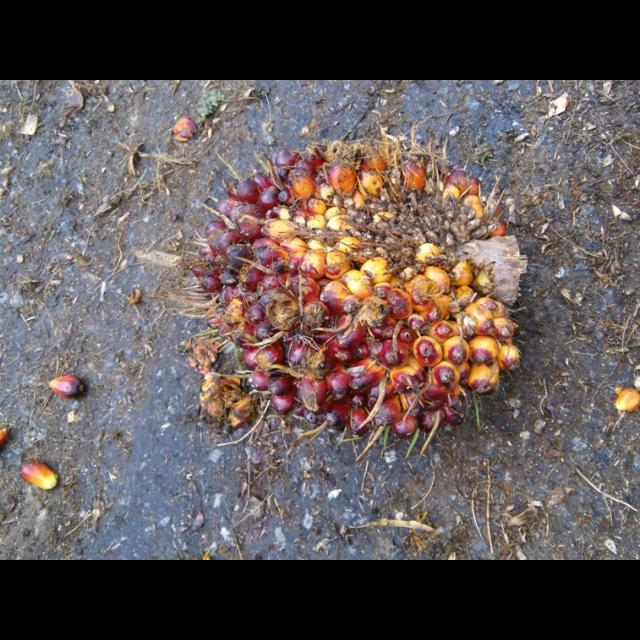Ripe: (197, 149, 529, 444)
